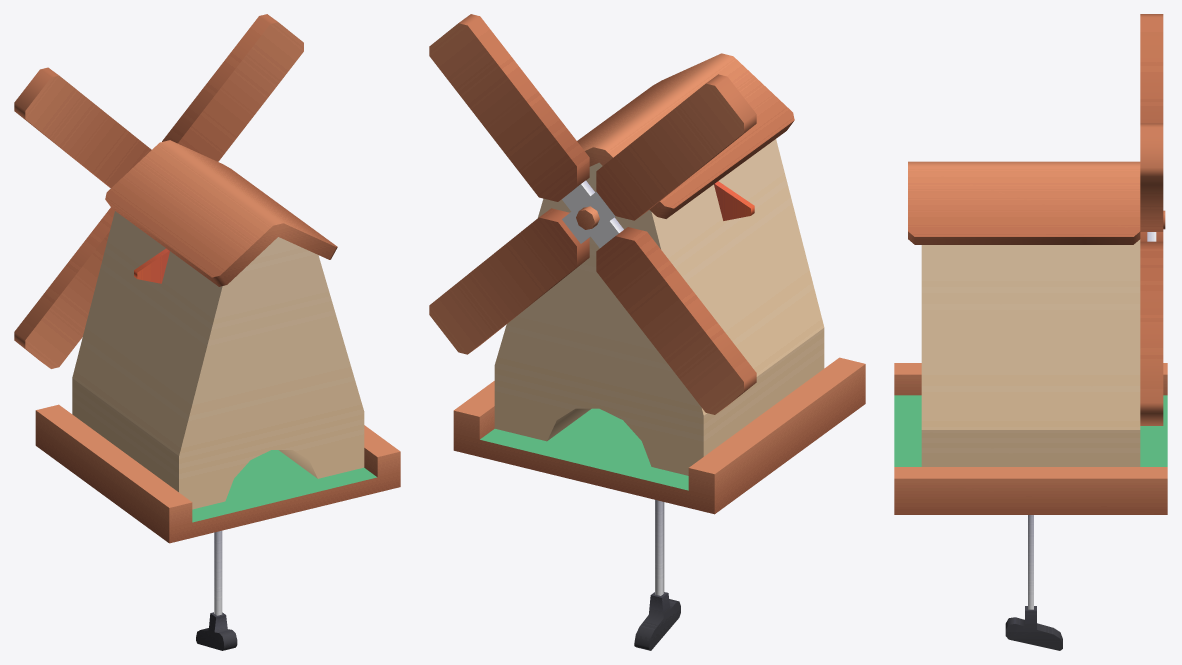
File: golf.glb
The picture shows the model from 3 angles, left to right: view 1: azimuth 30°, elevation 25°; view 2: azimuth 150°, elevation 25°; view 3: azimuth 270°, elevation 25°; orthographic projection. The views are drawn at different scales.
Parts seen in each view (by area): view 1: windmill, blades, club-red, flag-red; view 2: windmill, blades, club-red, flag-red; view 3: windmill, blades, club-red.
Boxes of the visible parts, bbox=[...] form: windmill: bbox=[35, 140, 400, 543]; blades: bbox=[14, 14, 303, 368]; club-red: bbox=[196, 530, 237, 650]; flag-red: bbox=[134, 248, 169, 283]; windmill: bbox=[453, 53, 865, 514]; blades: bbox=[429, 14, 756, 414]; club-red: bbox=[634, 500, 680, 650]; flag-red: bbox=[714, 181, 754, 220]; windmill: bbox=[894, 161, 1167, 514]; blades: bbox=[1140, 14, 1165, 425]; club-red: bbox=[1005, 515, 1062, 650].
Bounding box in the file's own units: 1.2 × 2.33 × 0.9999.
1 material, 1 textured.
